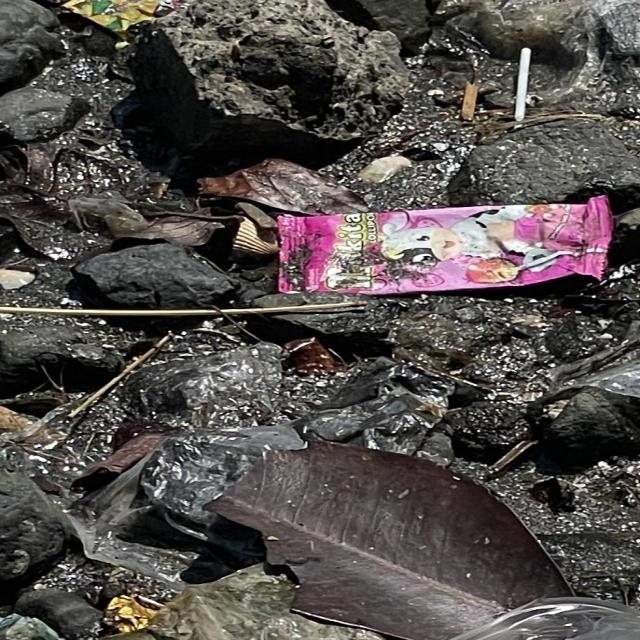plastic_waste: (276, 195, 615, 297)
